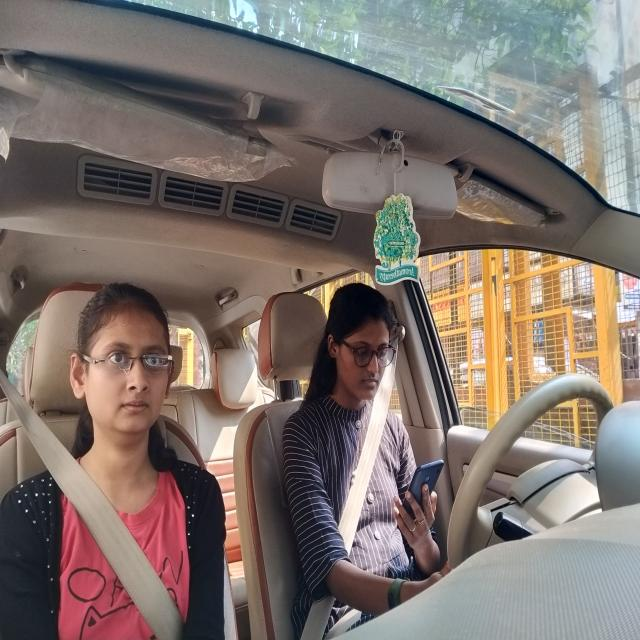mobile: (410, 456, 444, 530)
person: (74, 309, 172, 438), (320, 292, 405, 414)
